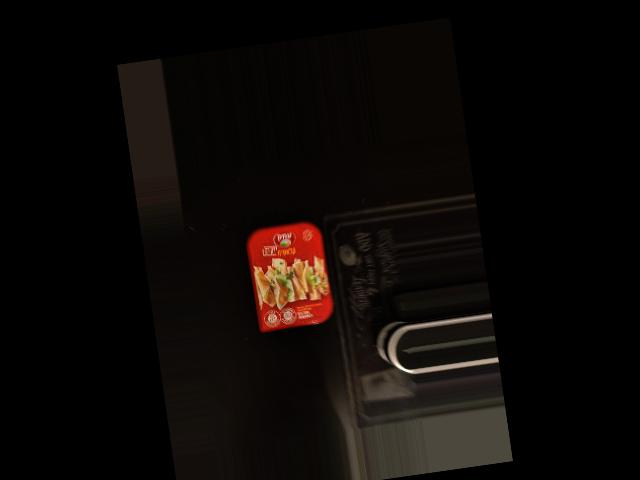cheese: (239, 217, 339, 339)
